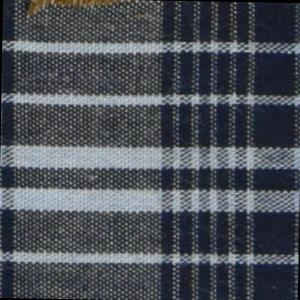Oil Stain: (23, 1, 124, 19)
